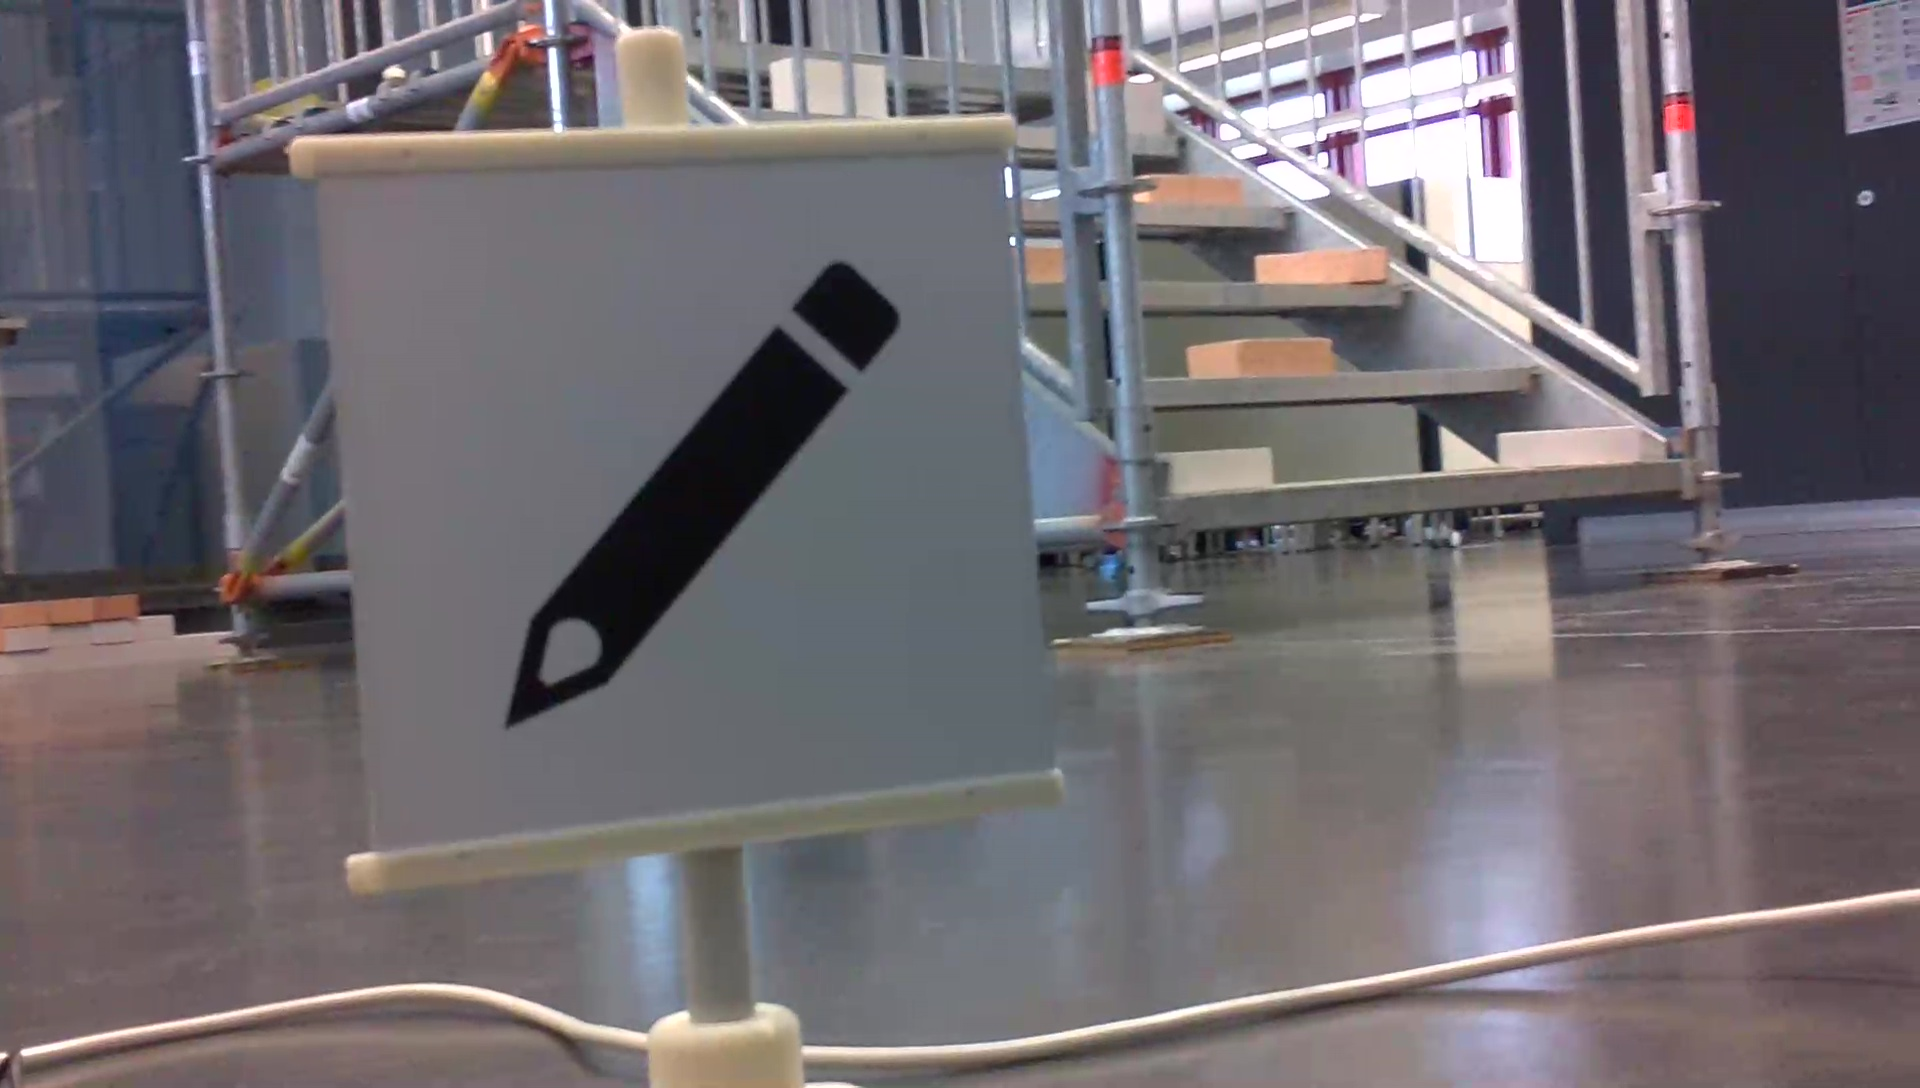brick: (1187, 336, 1327, 372), (1502, 430, 1635, 466), (1258, 247, 1389, 281), (1171, 447, 1271, 489), (1142, 171, 1245, 203), (1125, 80, 1158, 135)
edge: (1175, 462, 1687, 533), (1149, 363, 1543, 404)
pencil: (483, 239, 915, 742)
stairs: (1044, 0, 1803, 651)
